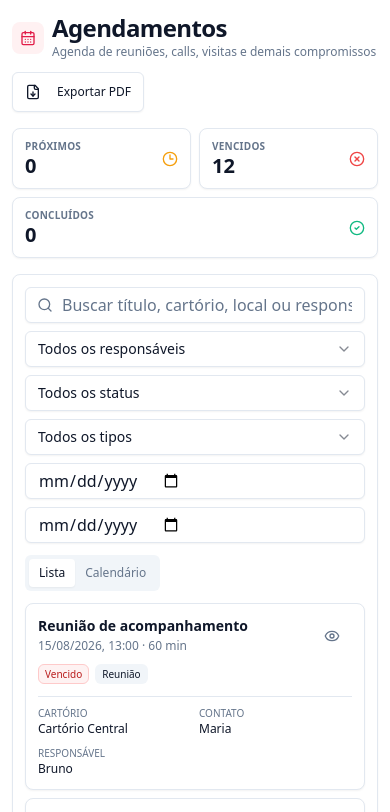
Test: CS/CX contatos e agendamentos — permissões › abre as observações decodificadas e ordenadas sem abrir a edição
The width and height of the screenshot is (390, 812).
What coordinates should you click on to do the following:
click the button named "Visualizar observações de Reunião de acompanhamento"
I would click on:
 (332, 636)
Its box is left=312, top=616, right=352, bottom=656.
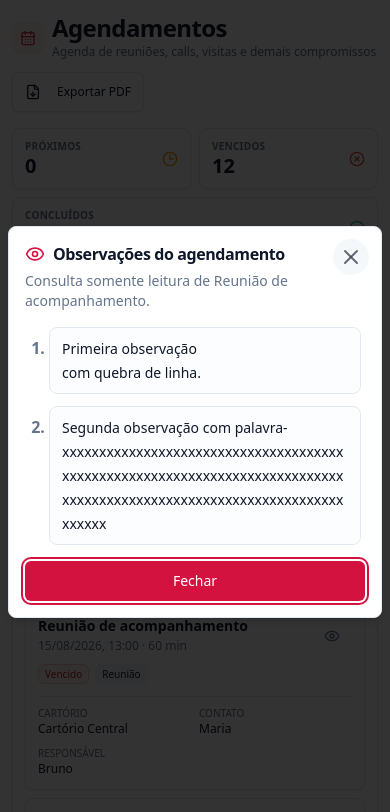
Check: the heading "Observações do agendamento" is shown, box left=25, top=243, right=325, bottom=265
Check: the number of list items is 2, box left=49, top=327, right=361, bottom=394; left=49, top=406, right=361, bottom=545
Check: the list item "Primeira observação com quebra de linha." is shown, box left=49, top=327, right=361, bottom=394
